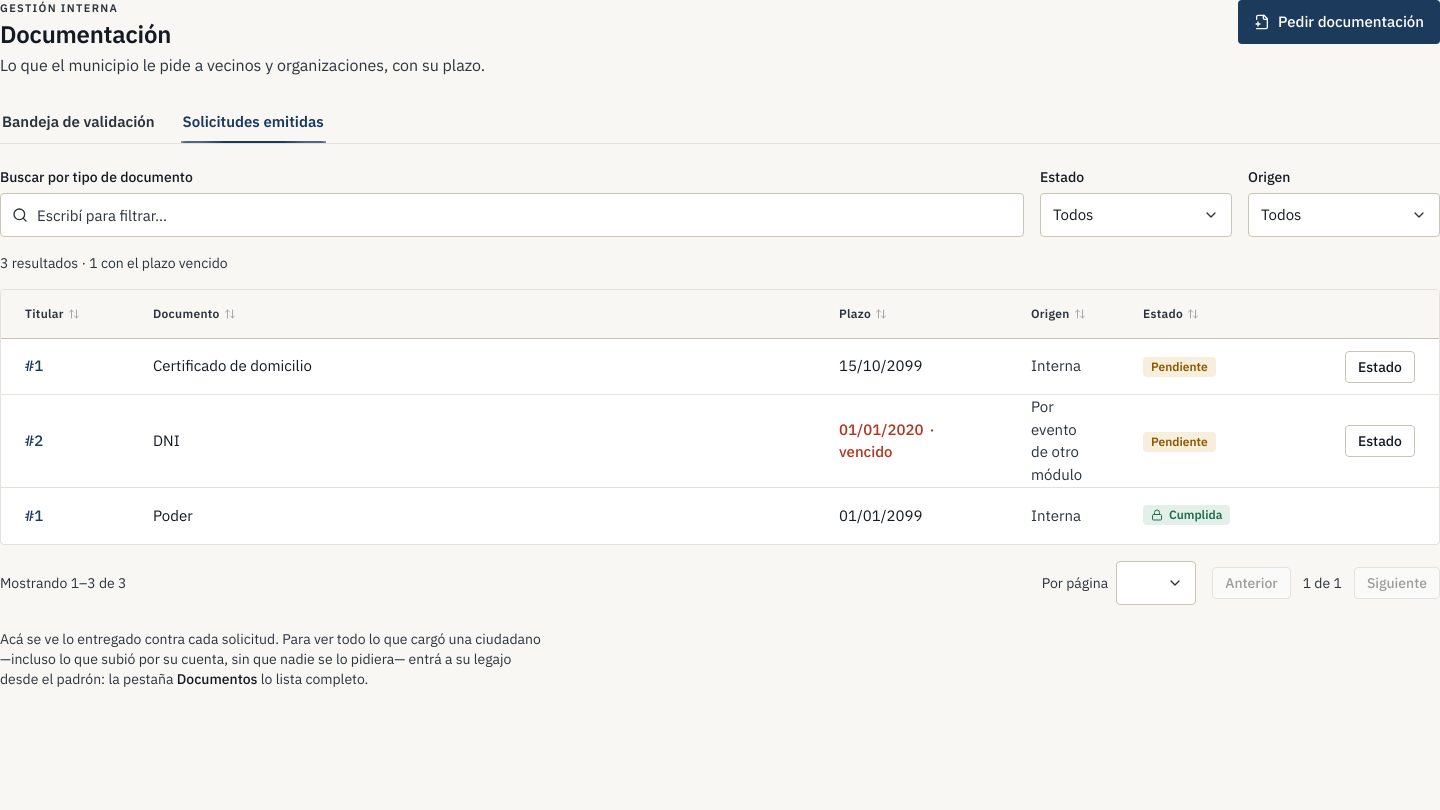
pedir documentación › exige el plazo
This screenshot has width=1440, height=810.
Click the button "Pedir documentación".
click(1339, 22)  # box [1238,0,1439,44]
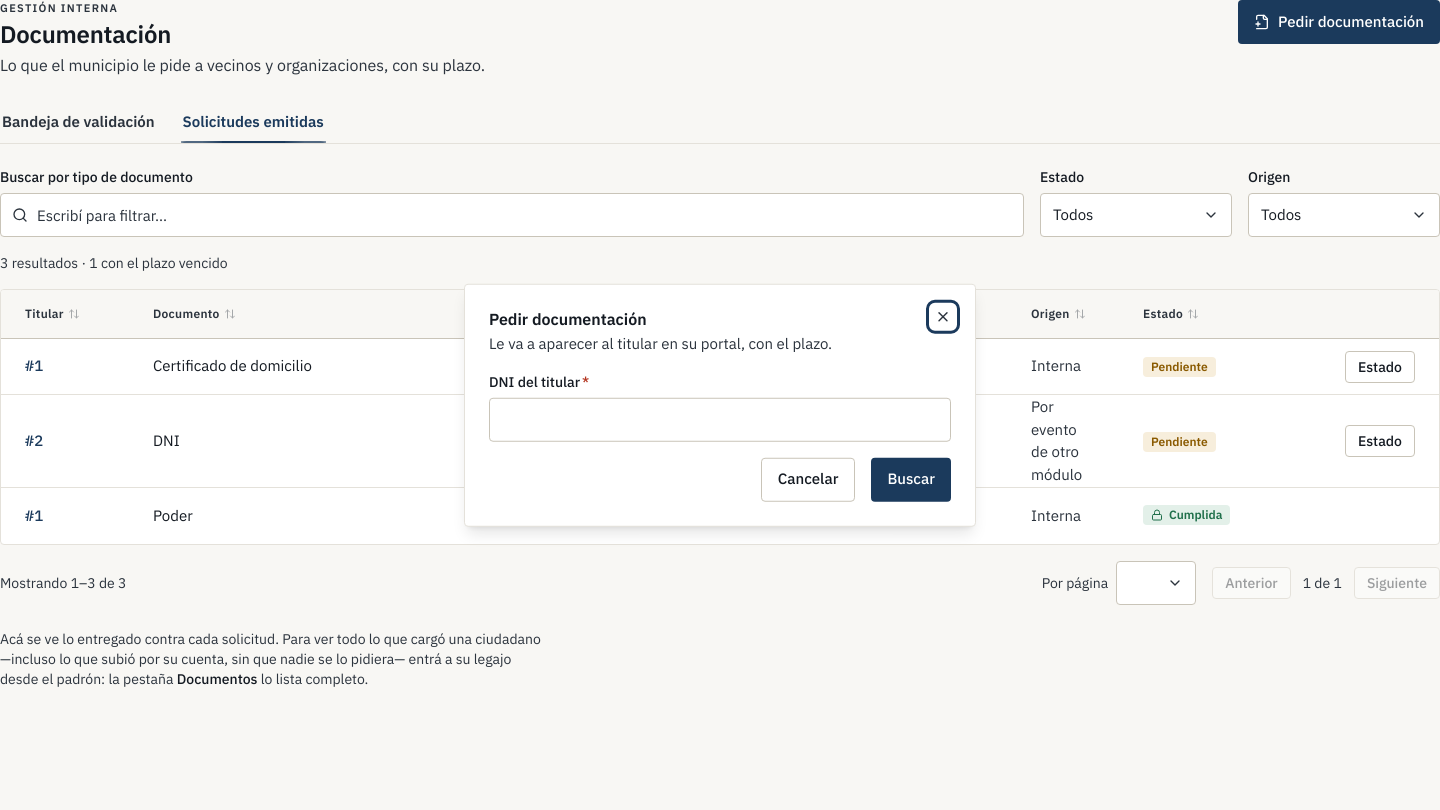
Type "34567890" into the field labelled "DNI del titular".
click(720, 419); type("34567890")  # box [489,397,951,441]
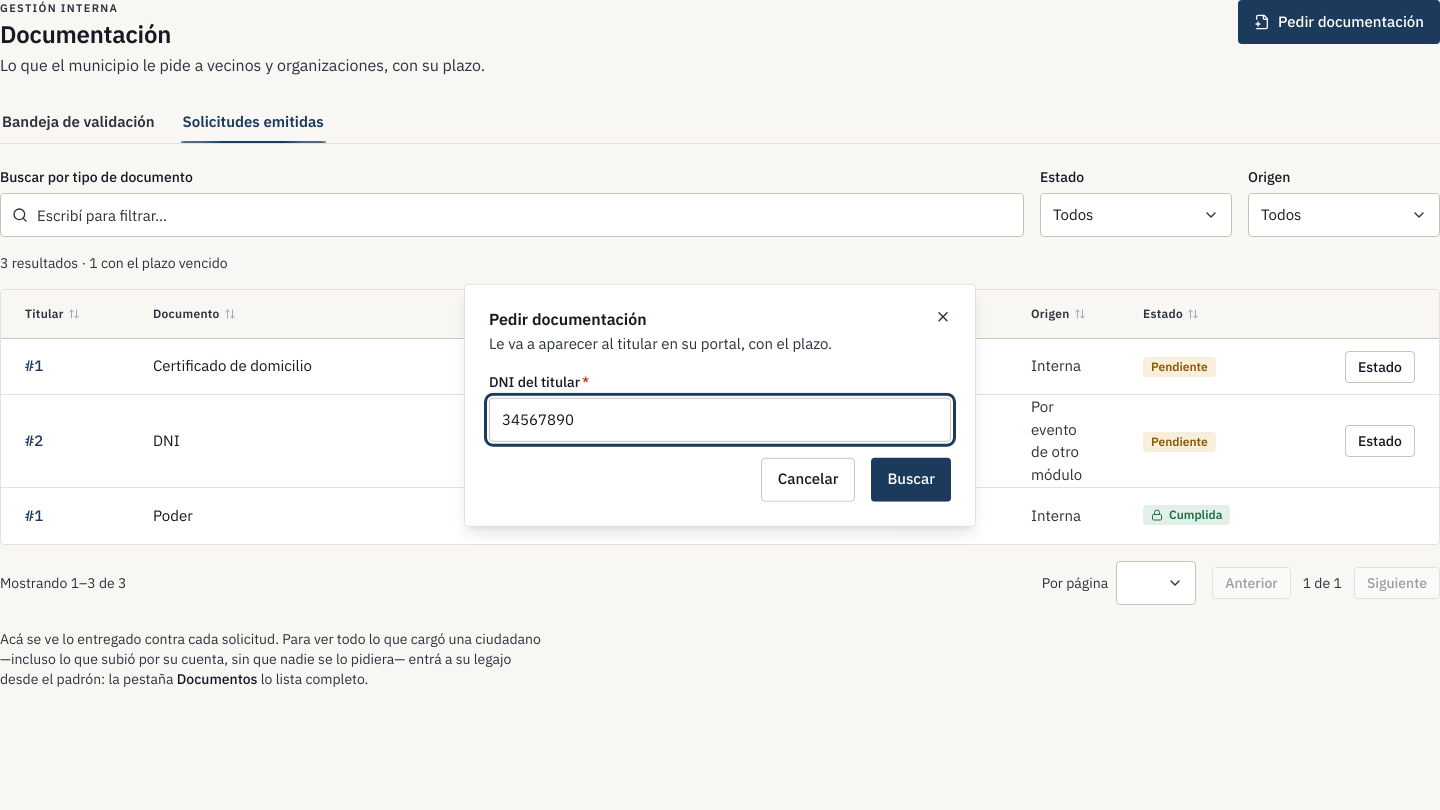
Click the button "Buscar".
click(911, 479)  # box [871,457,951,501]
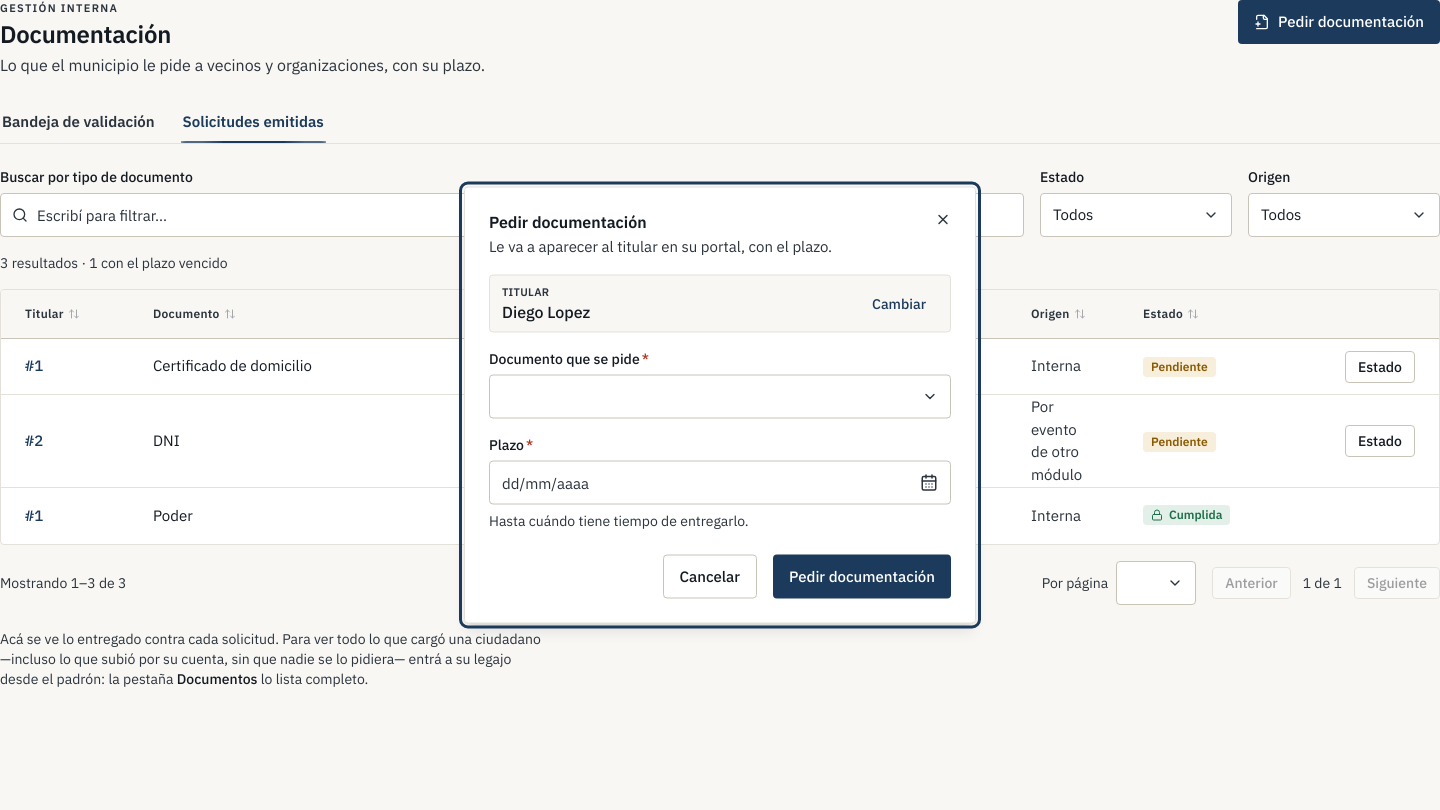
Click the button "Pedir documentación".
click(862, 576)  # box [773,554,951,598]
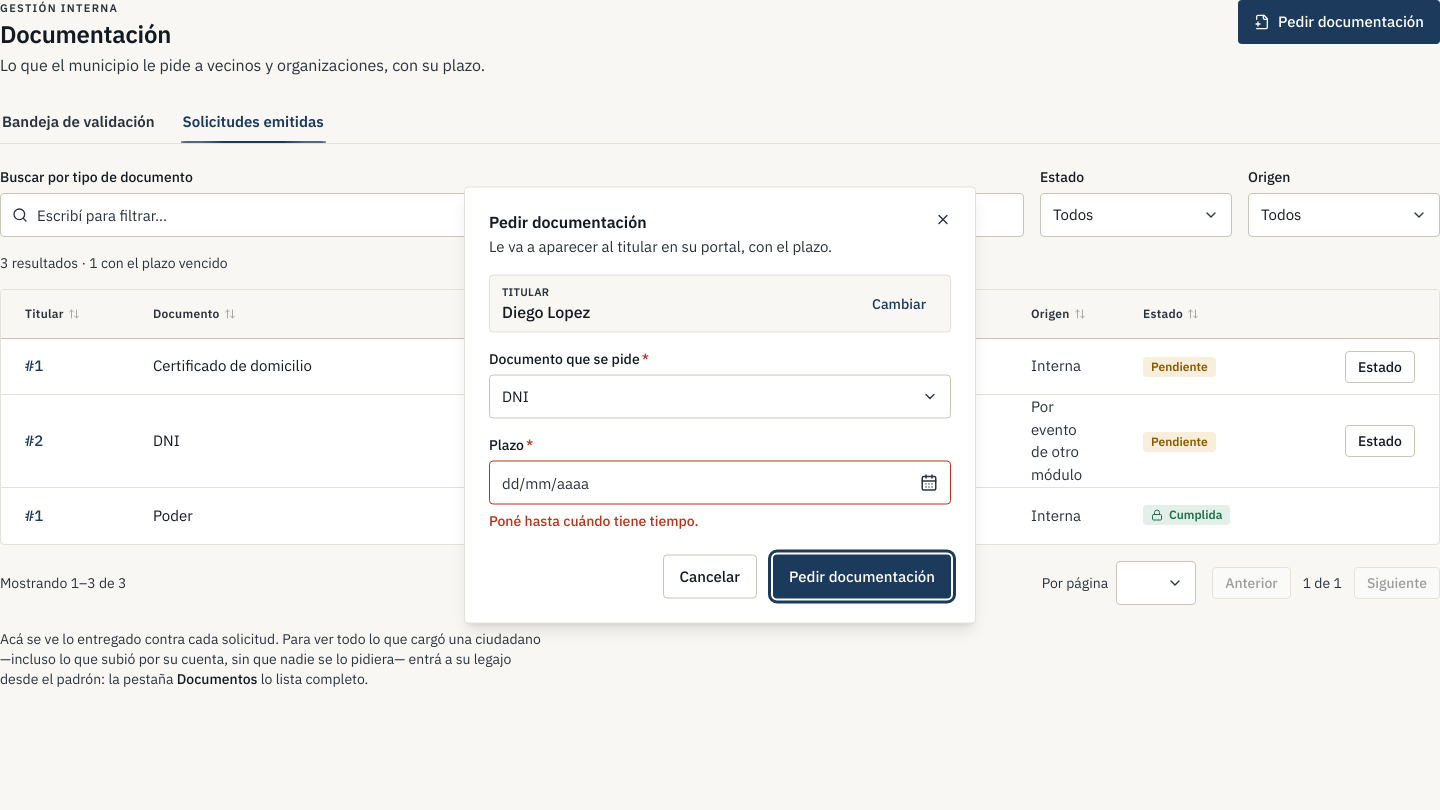
Check: the text "Poné hasta cuándo tiene tiempo." is shown, box [489,512,698,530]
